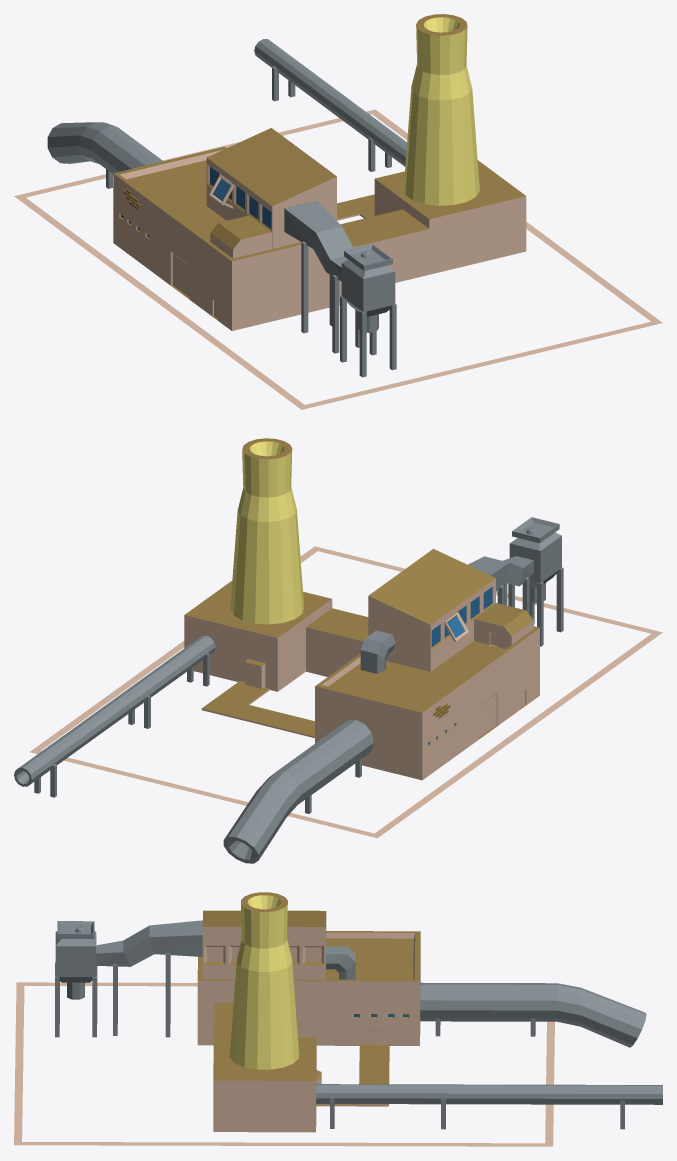
The model's file is FactoryWater_1.fbx.
The picture shows the model from 3 angles, top to bottom: view 1: azimuth 30°, elevation 25°; view 2: azimuth 150°, elevation 25°; view 3: azimuth 270°, elevation 25°; orthographic projection. The views are drawn at different scales.
Visible parts, largest first — view 1: Factory_Water.003; view 2: Factory_Water.003; view 3: Factory_Water.003.
Part boxes in pixels (x1=…): Factory_Water.003: x1=14, y1=14, x2=662, y2=409; Factory_Water.003: x1=14, y1=438, x2=662, y2=863; Factory_Water.003: x1=14, y1=892, x2=662, y2=1146.
Size of the model in its own units: 371 by 235 by 619.
